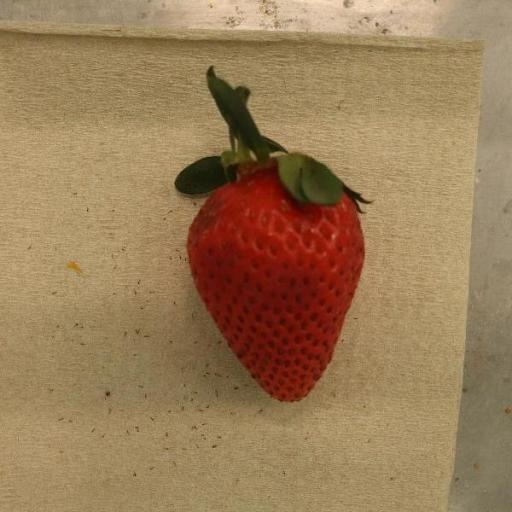Strawberry: (175, 67, 372, 404)
